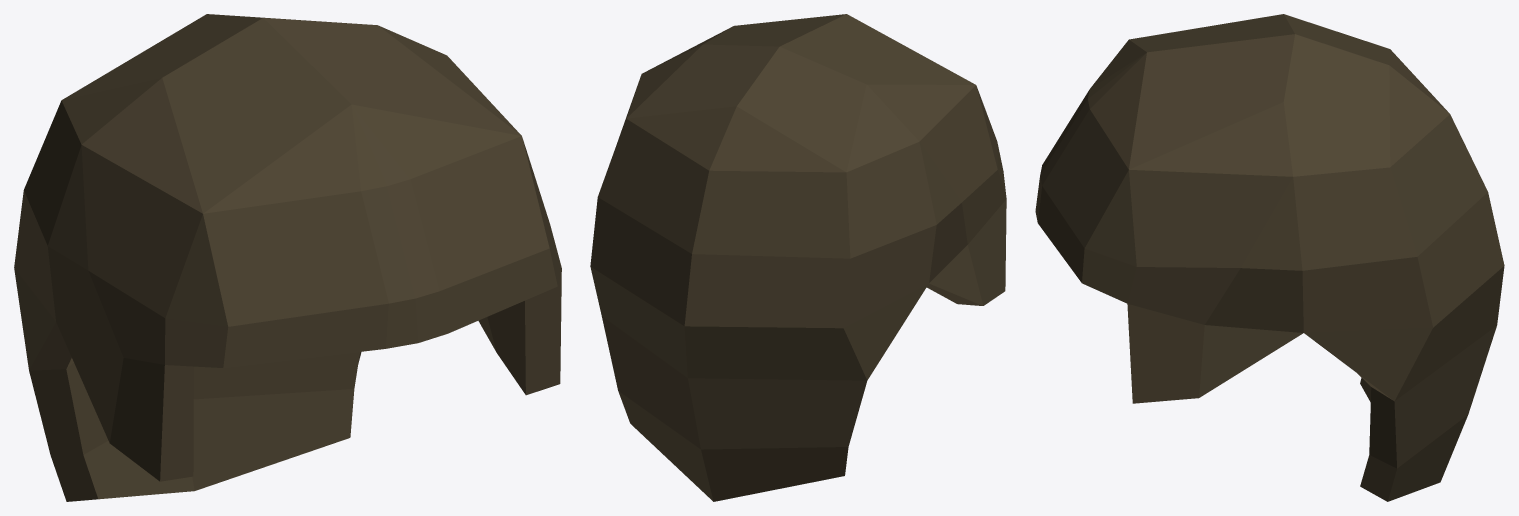
The model's file is Male_Hairstyle_3.glb.
The picture shows the model from 3 angles, left to right: view 1: azimuth 30°, elevation 25°; view 2: azimuth 150°, elevation 25°; view 3: azimuth 270°, elevation 25°; orthographic projection. The views are drawn at different scales.
Visible parts, largest first — view 1: Male_Hairstyle_3; view 2: Male_Hairstyle_3; view 3: Male_Hairstyle_3.
Boxes of the visible parts, x1,y1,x2,y2 form: Male_Hairstyle_3: [14, 14, 561, 501]; Male_Hairstyle_3: [590, 14, 1006, 501]; Male_Hairstyle_3: [1035, 14, 1504, 501].
Bounding box in the file's own units: 0.5204 × 0.631 × 0.5983.
